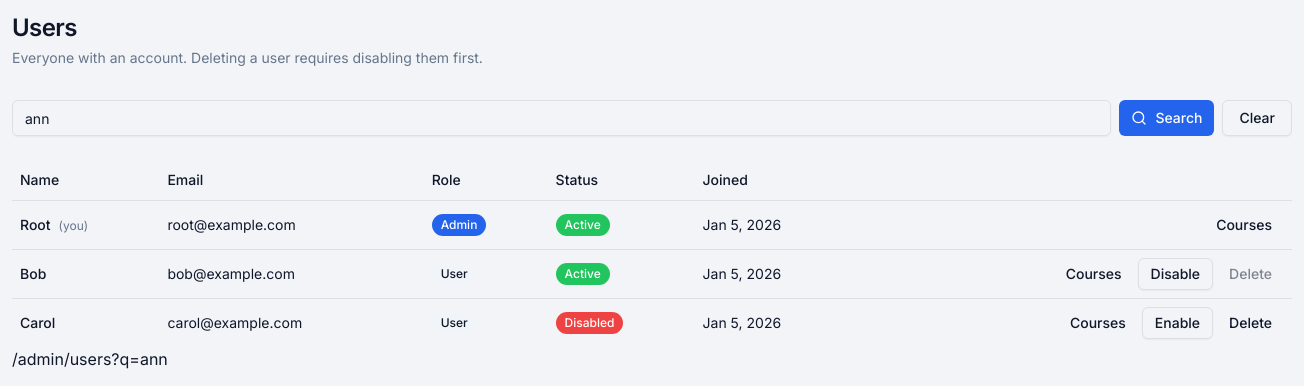
it: search › offers Clear only while a search is applied, and clear shows everyone again
Click the button "Clear".
click(1257, 118)  # box [1222,100,1292,136]
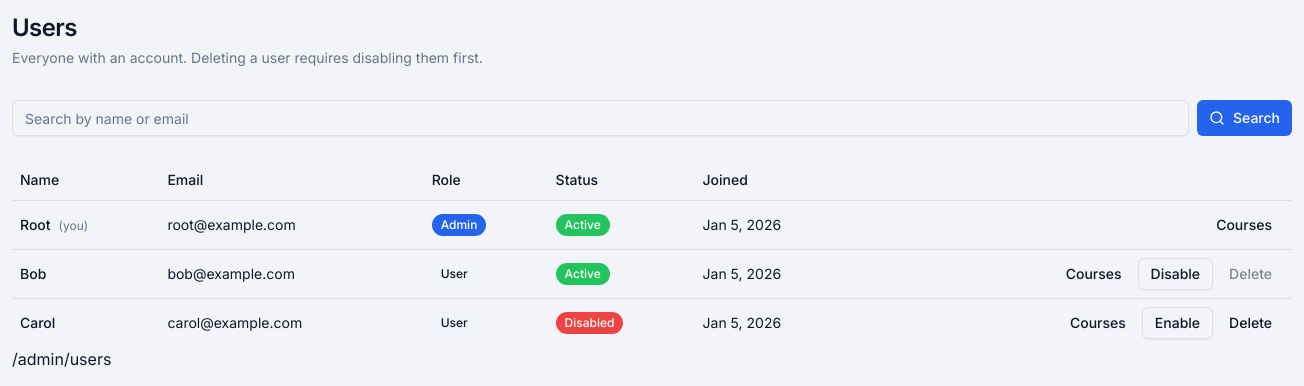
Expected: the text with test id "location" reads "/admin/users", [12,348,111,368]
Expected: the search field named "Search users" is empty, [12,100,1189,136]
Expected: the button "Clear" is gone
